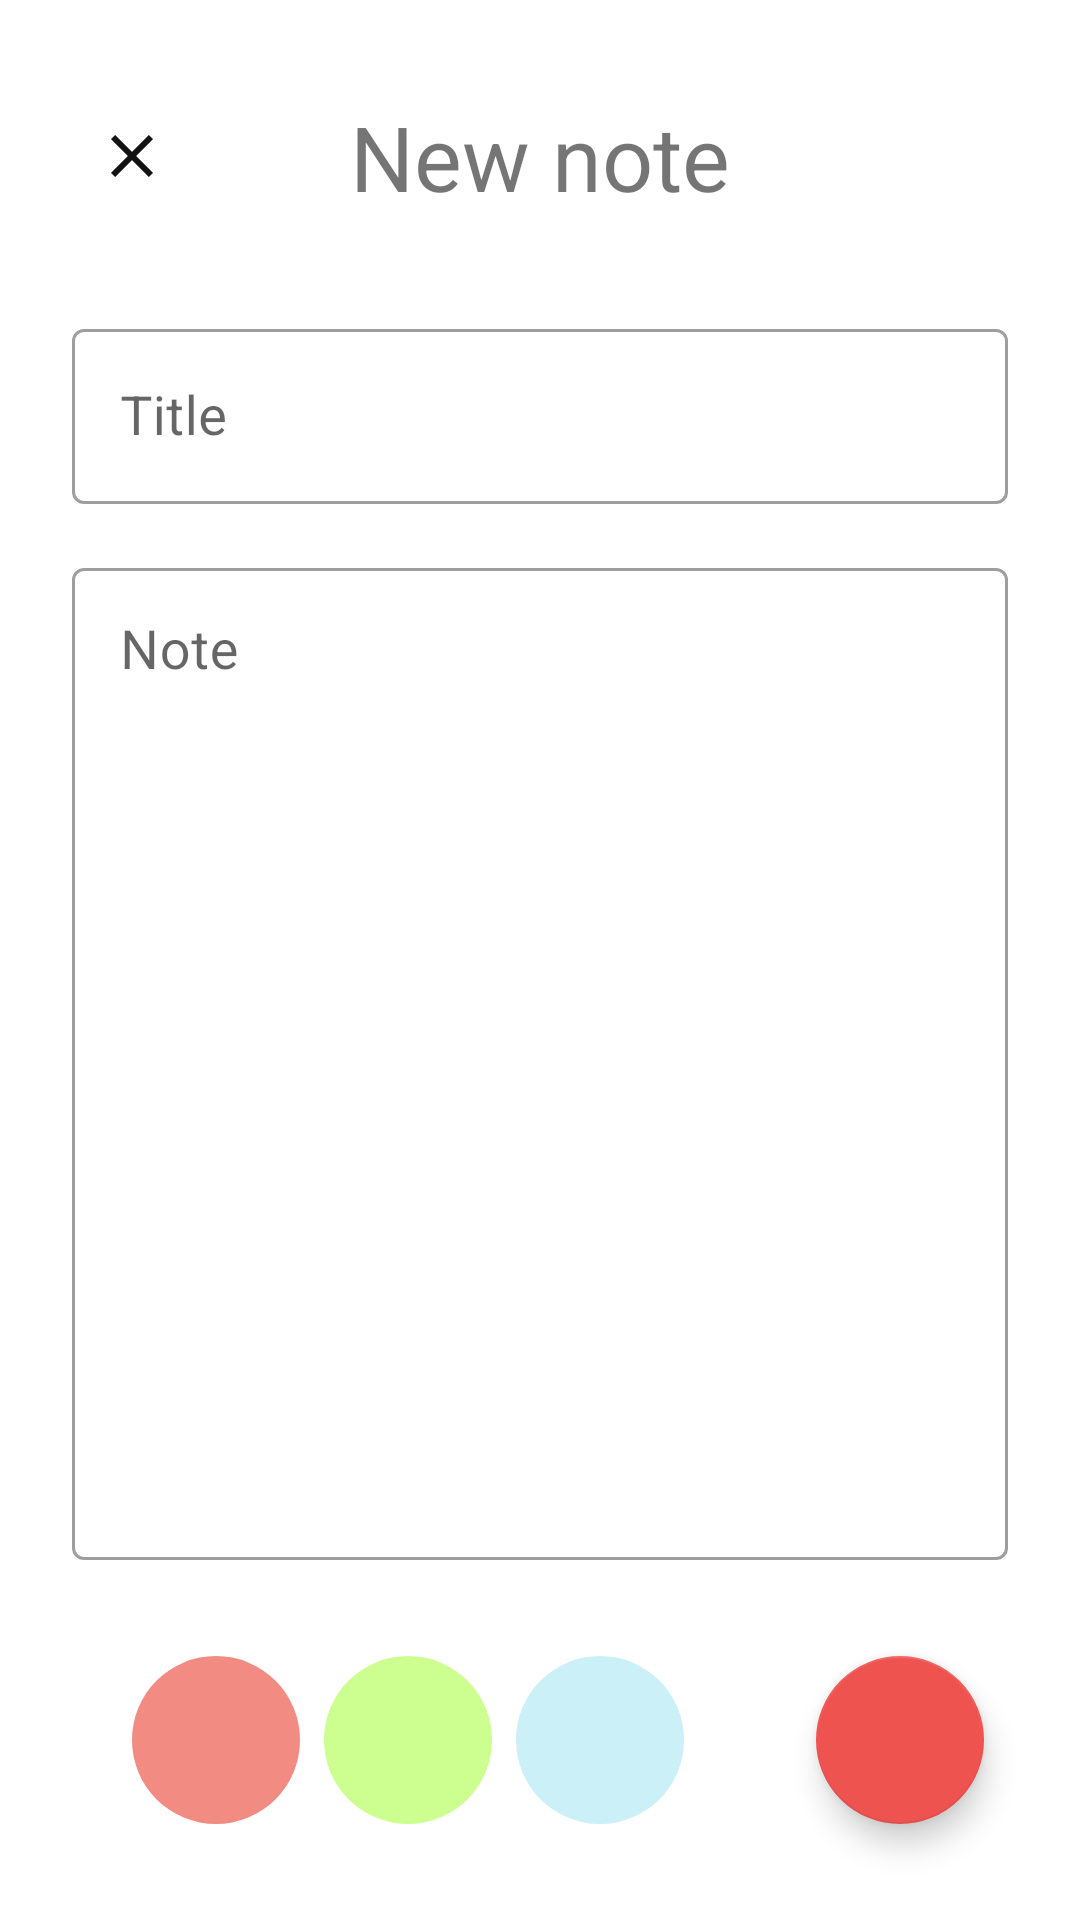

Icons on this 1080px x 1920px Android screen, each with its box as (x1, y1, x2, y2):
close: (111, 135, 153, 177)
